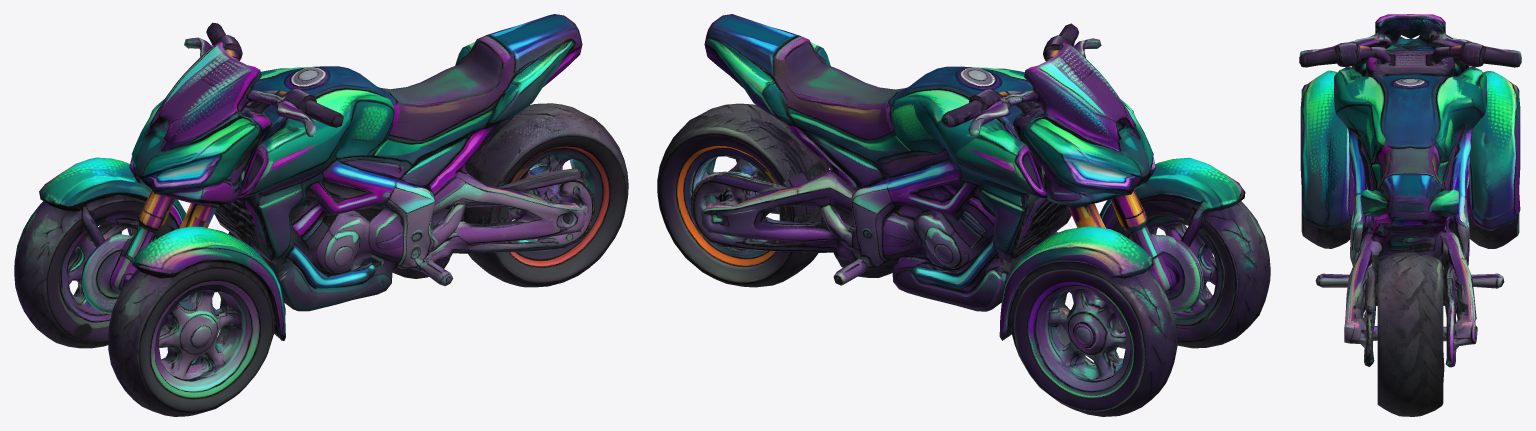
Rendered from Car_Neon_Thunderbike.glb.
3 views of the same model, side by side, from view 1: azimuth 30°, elevation 25°; view 2: azimuth 150°, elevation 25°; view 3: azimuth 270°, elevation 25° (orthographic). The views are drawn at different scales.
Parts seen in each view (by area): view 1: Mesh_0.003; view 2: Mesh_0.003; view 3: Mesh_0.003.
Boxes of the visible parts, box(x1,y1,x2,y2) form: Mesh_0.003: box(14, 14, 628, 416); Mesh_0.003: box(657, 14, 1270, 416); Mesh_0.003: box(1299, 14, 1521, 416).
Bounding box in the file's own units: 1.23 × 0.6408 × 0.4888.
1 material, 1 textured.
